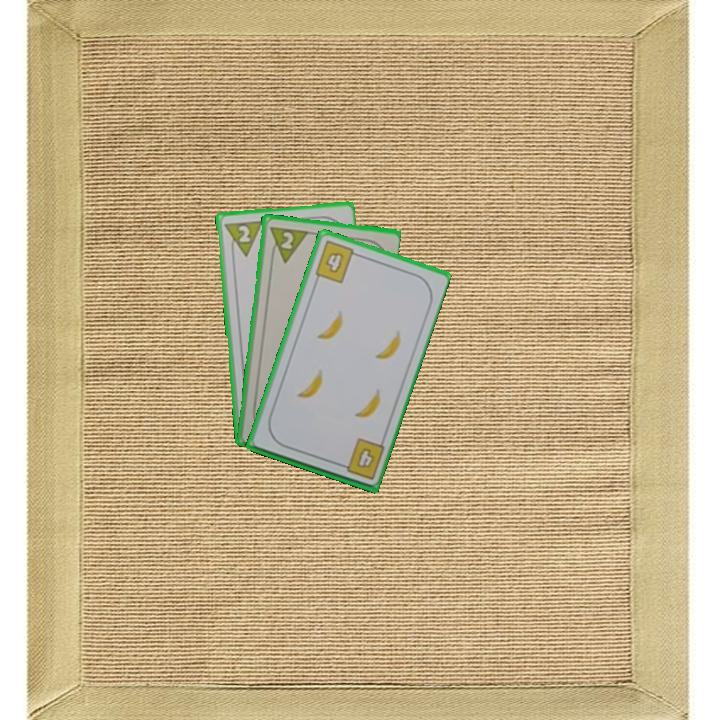2p: (220, 217, 265, 260), (266, 222, 309, 265)
4b: (311, 237, 362, 286), (334, 435, 387, 482)
